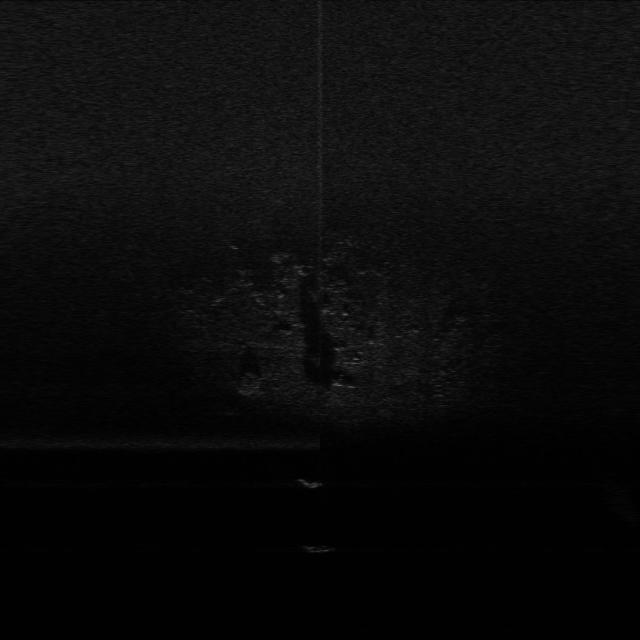cube: (302, 532, 339, 556)
square cage: (293, 469, 332, 492)
